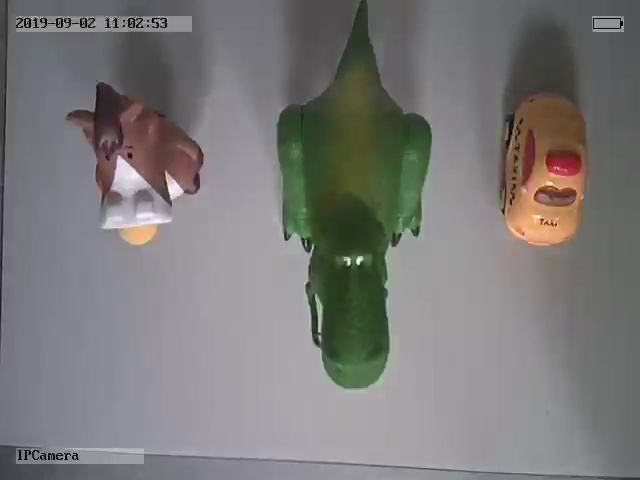car: (500, 88, 587, 248)
horse: (66, 82, 205, 246)
rex: (276, 1, 434, 390)
